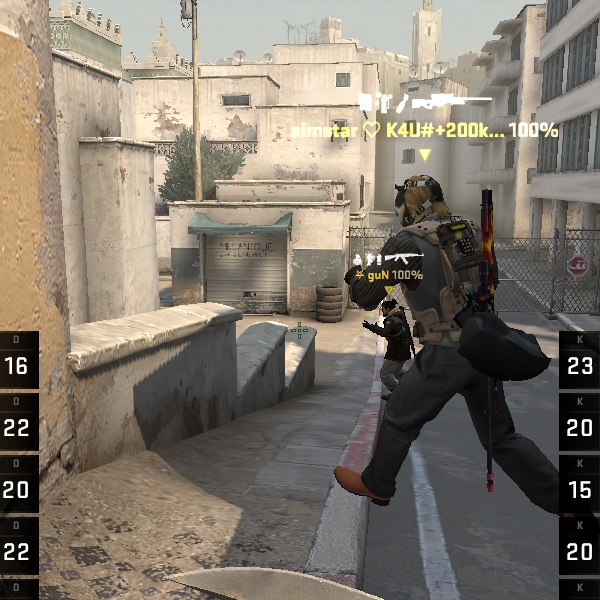ct_head: (382, 167, 458, 234)
t_body: (326, 173, 543, 553)
t_head: (380, 168, 457, 239)
